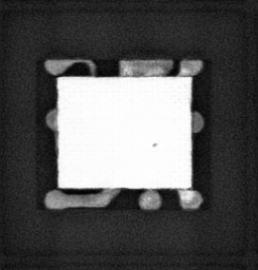DIE_INK: (151, 140, 159, 148)
